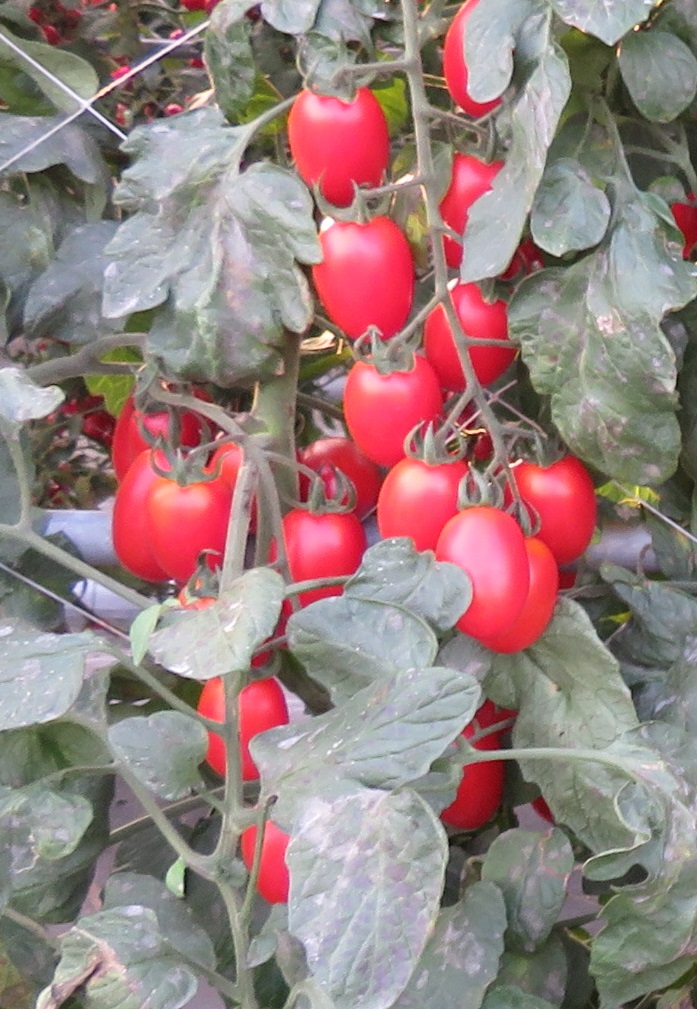red: (302, 221, 418, 337), (279, 81, 393, 199), (339, 340, 447, 462), (439, 502, 533, 642), (265, 500, 366, 620), (422, 276, 519, 392), (503, 452, 598, 564), (196, 673, 291, 783), (111, 446, 182, 581), (371, 455, 476, 539), (152, 477, 232, 574), (441, 1, 505, 120), (297, 439, 383, 519)
